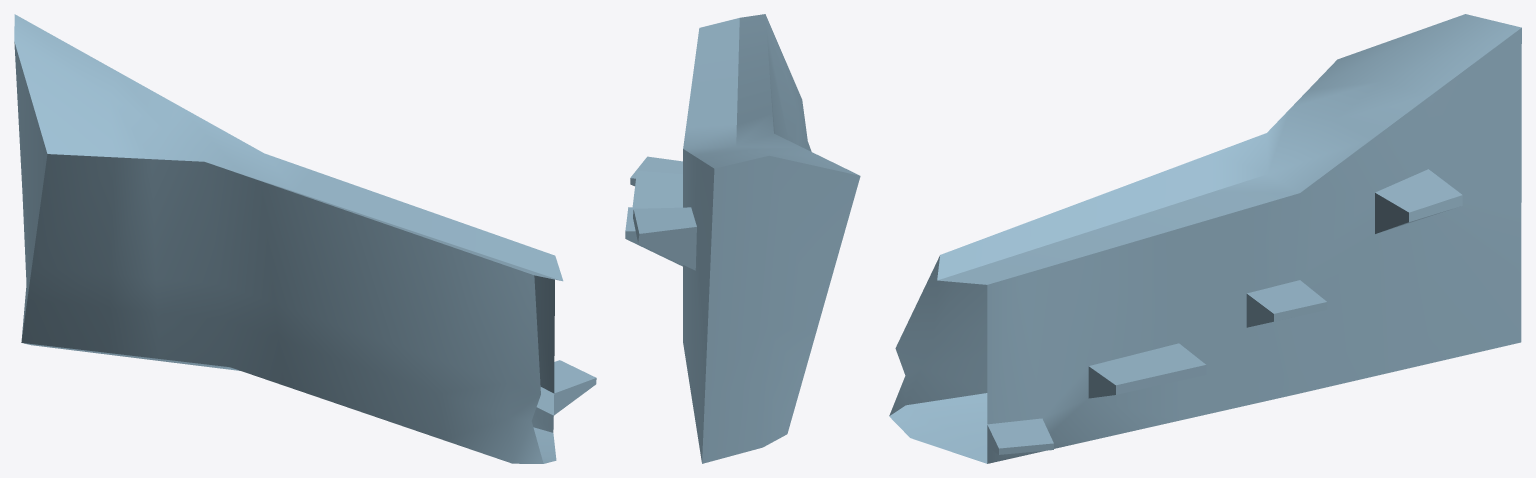
The model's file is terrain_W2A8.fbx.
3 renders of one model, left to right at view 1: azimuth 30°, elevation 25°; view 2: azimuth 150°, elevation 25°; view 3: azimuth 270°, elevation 25°, orthographic. The views are drawn at different scales.
Parts seen in each view (by area): view 1: W2connector_mesh; view 2: W2connector_mesh; view 3: W2connector_mesh.
Part boxes in pixels (x1,y1,x2,y2): W2connector_mesh: (14, 14, 596, 463); W2connector_mesh: (625, 14, 860, 463); W2connector_mesh: (889, 14, 1521, 463).
Bounding box in the file's own units: 6213 × 4701 × 8739.
